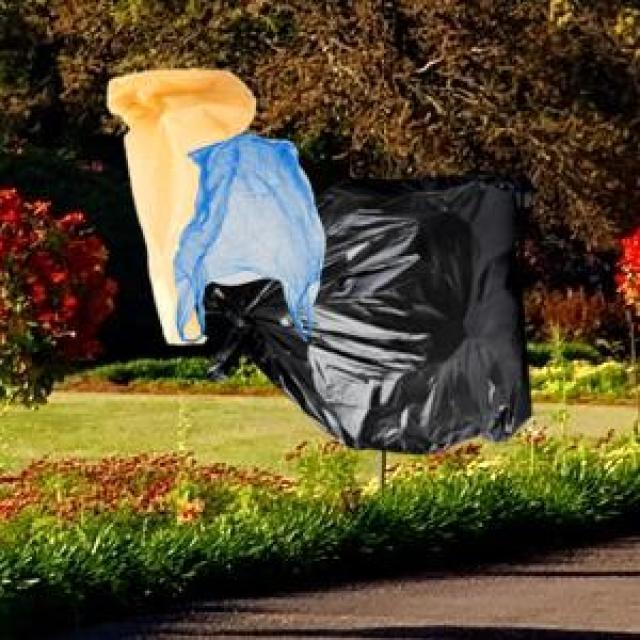miscellaneous trash: (198, 166, 527, 450), (102, 66, 252, 339)
